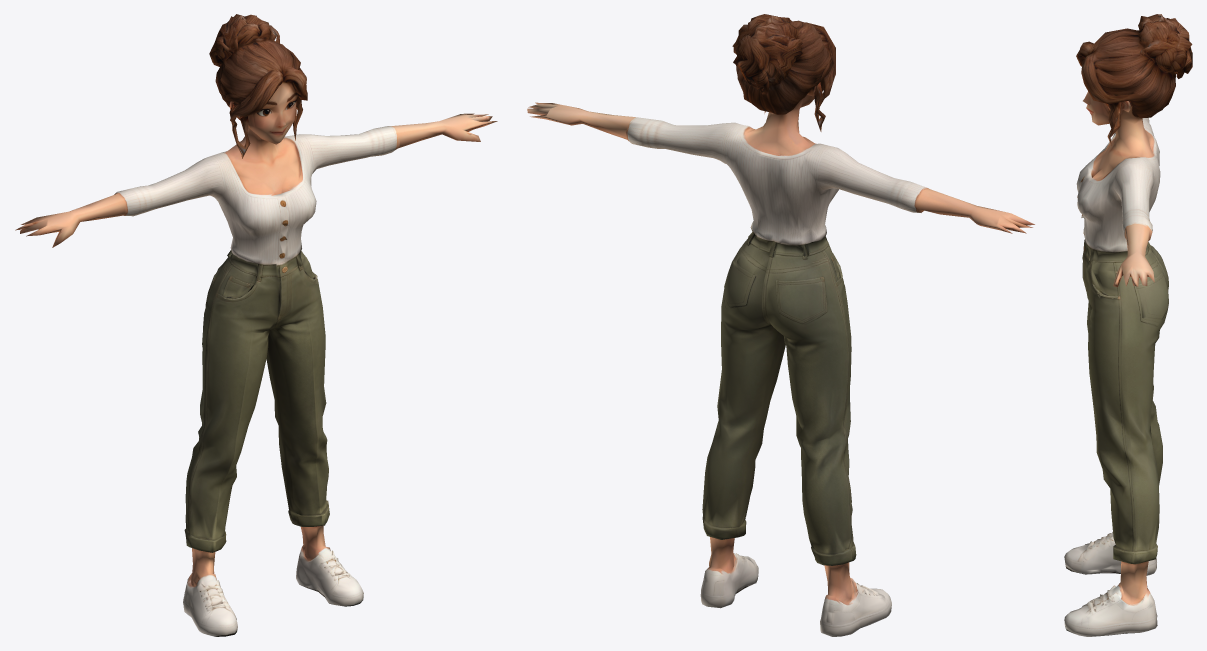
File: lea.glb
3 views of the same model, side by side, from view 1: azimuth 30°, elevation 25°; view 2: azimuth 150°, elevation 25°; view 3: azimuth 270°, elevation 25° (orthographic). The views are drawn at different scales.
Visible parts, largest first — view 1: tripo_mesh_d962c806_7d4e_4ef6_8055_71c9c8469de5; view 2: tripo_mesh_d962c806_7d4e_4ef6_8055_71c9c8469de5; view 3: tripo_mesh_d962c806_7d4e_4ef6_8055_71c9c8469de5.
Boxes of the visible parts, x1,y1,x2,y2 form: tripo_mesh_d962c806_7d4e_4ef6_8055_71c9c8469de5: (15, 14, 497, 636); tripo_mesh_d962c806_7d4e_4ef6_8055_71c9c8469de5: (527, 14, 1034, 636); tripo_mesh_d962c806_7d4e_4ef6_8055_71c9c8469de5: (1064, 14, 1192, 636).
Size of the model in its own units: 0.8513 by 0.9822 by 0.1962.
1 material, 1 textured.
